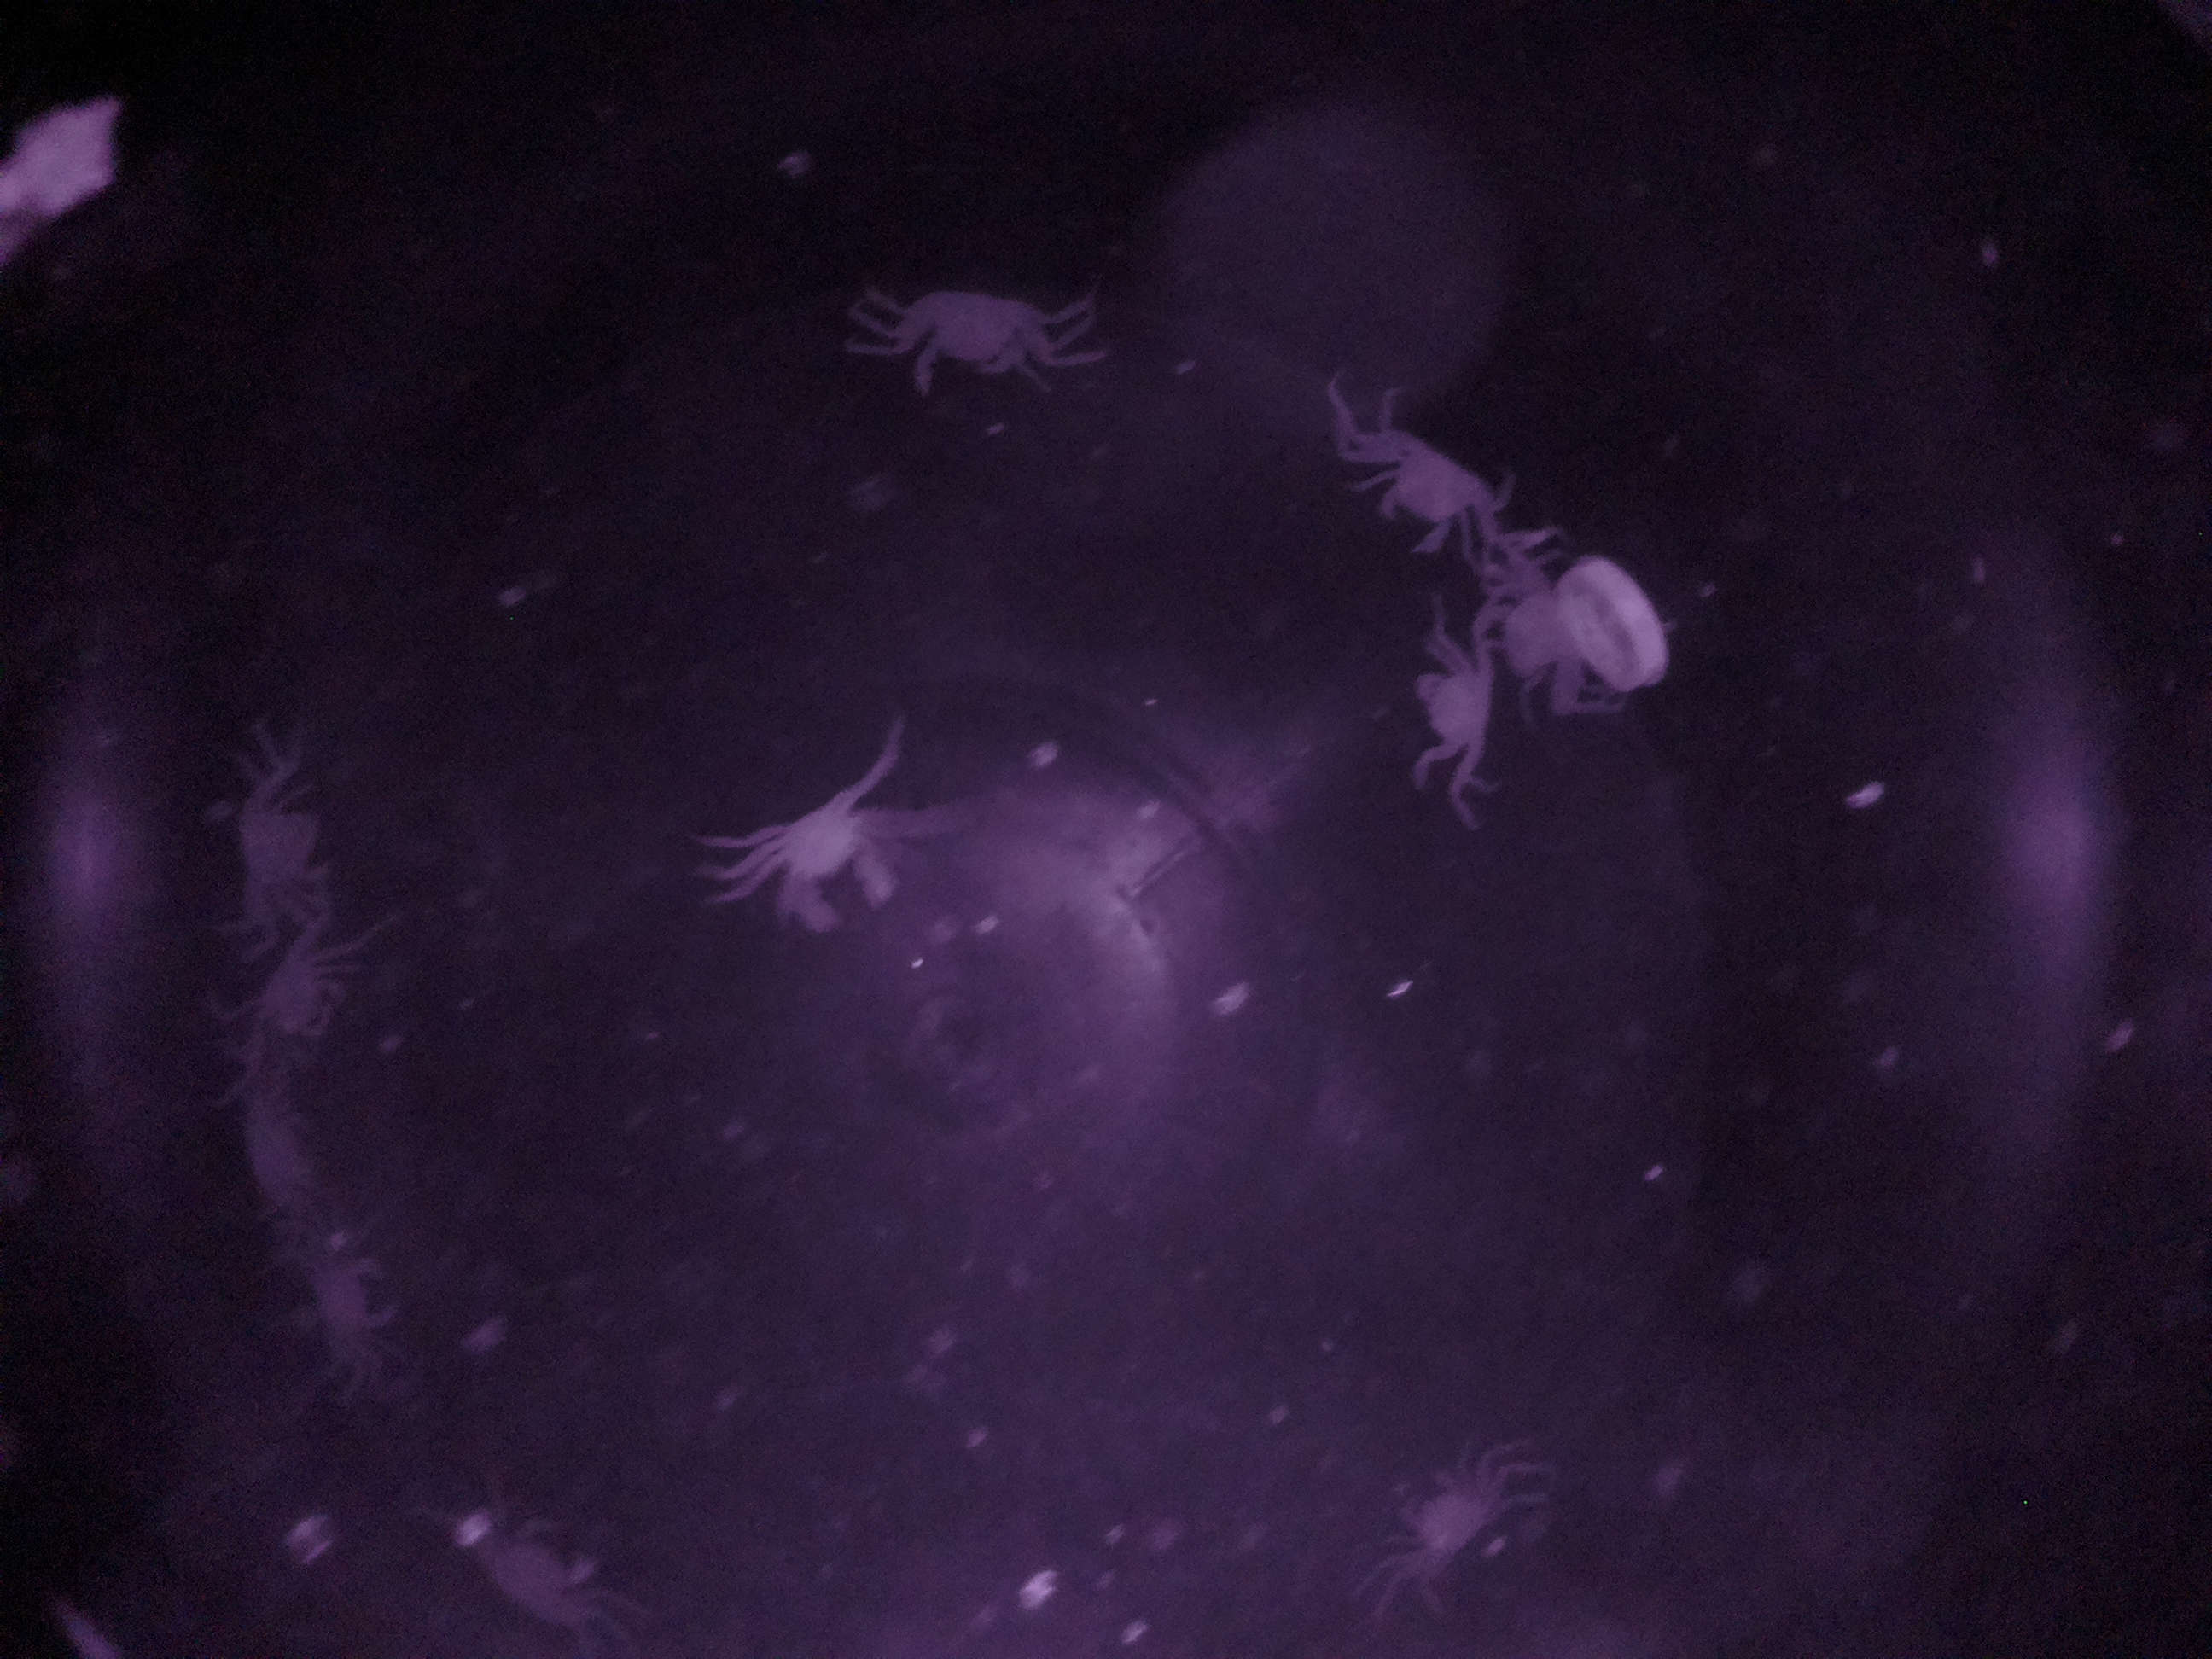Crab: (740, 769, 916, 950), (869, 274, 1076, 423), (1369, 1438, 1533, 1610), (1348, 408, 1514, 570), (1402, 608, 1529, 793)
